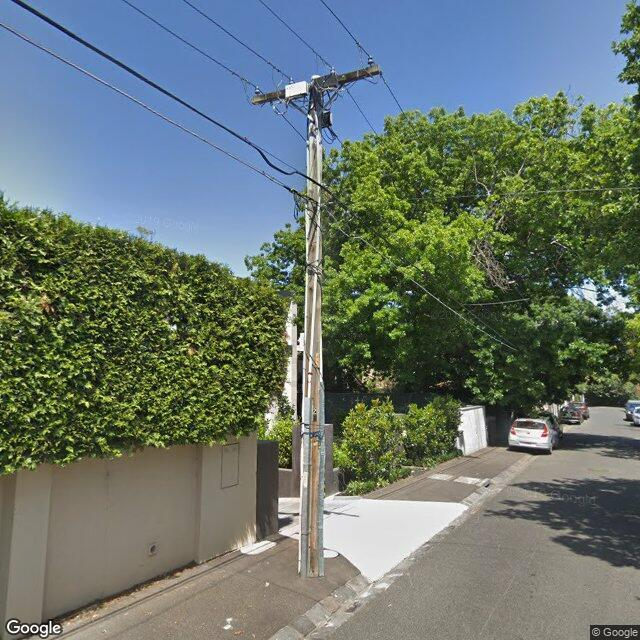crossarm: (232, 41, 384, 115)
timber-pole: (298, 75, 326, 579)
